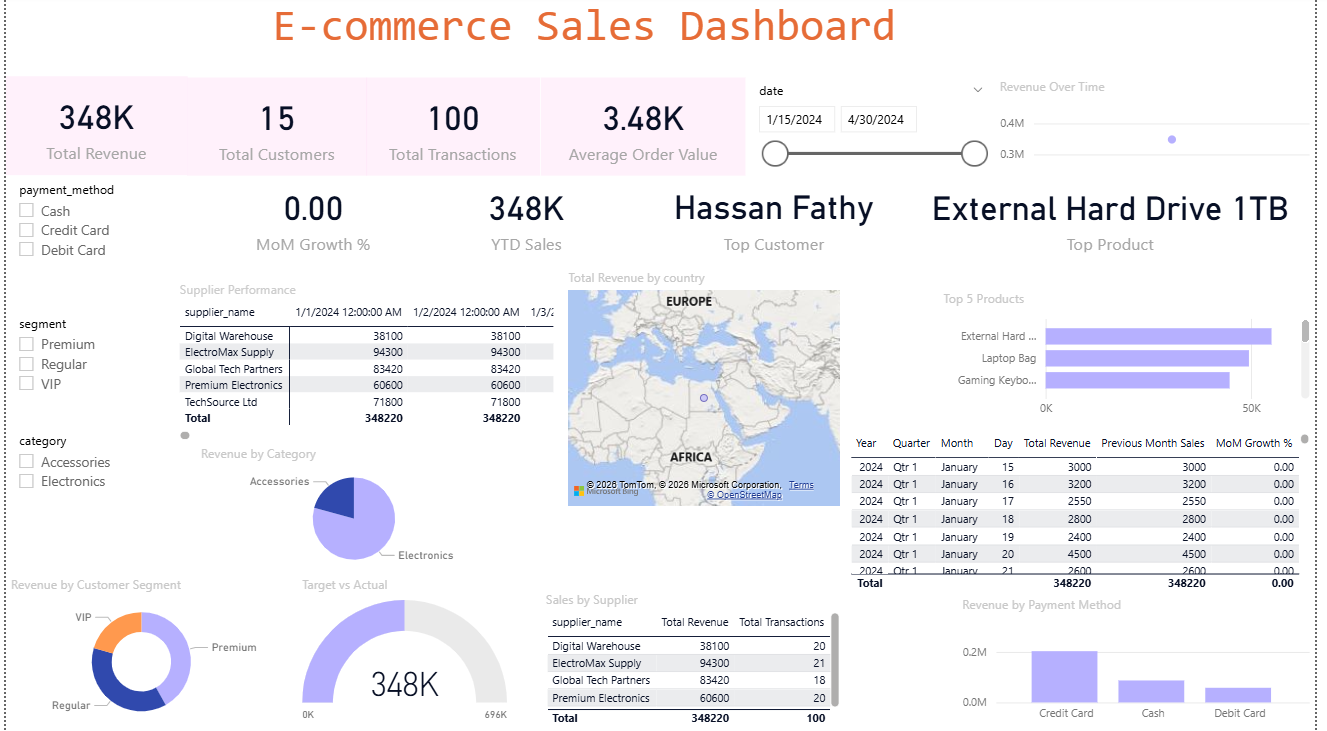

The dashboard page shown, as its layout file describes it:
{"tool":"powerbi","page":{"name":"Page 1","canvas":[1280,720],"ordinal":0},"visuals":[{"type":"card","fields":{"Values":["Sales.Total Revenue"]},"box":[0,79.5,177.3,96.6],"z":0},{"type":"card","fields":{"Values":["Sales.Total Transactions"]},"box":[352.7,81,170.2,96.1],"z":1000},{"type":"card","fields":{"Values":["Sales.Total Customers"]},"box":[177,81,175.6,96.1],"z":2000},{"type":"card","fields":{"Values":["Sales.Average Order Value"]},"box":[522.8,81,200.3,96.1],"z":3000},{"type":"slicer","fields":{"Values":["Sales.date"]},"box":[723.9,80.7,244.6,96.6],"z":4000},{"type":"slicer","fields":{"Values":["Sales.payment_method"]},"box":[0,177,193.5,131.7],"z":5000},{"type":"slicer","fields":{"Values":["Customers.segment"]},"box":[0,308.2,161.4,116.2],"z":6000},{"type":"slicer","fields":{"Values":["Products.category"]},"box":[0,422.6,193.5,101.5],"z":7000},{"type":"textbox","box":[255.6,0,640.8,67.3],"z":8000},{"type":"card","fields":{"Values":["Customers.MoM Growth %"]},"box":[193.2,177.3,215.2,79.5],"z":9000},{"type":"card","fields":{"Values":["Customers.YTD Sales"]},"box":[408.4,177.3,201.8,79.5],"z":10000},{"type":"card","fields":{"Values":["Customers.Top Customer"]},"box":[622.4,176.1,258,80.7],"z":11000},{"type":"card","fields":{"Values":["Customers.Top Product"]},"box":[880.4,177.3,399.9,79.5],"z":12000},{"type":"tableEx","fields":{"Values":["Sales.date.Variation.Date Hierarchy.Year","Sales.date.Variation.Date Hierarchy.Quarter","Sales.date.Variation.Date Hierarchy.Month","Sales.date.Variation.Date Hierarchy.Day","Sales.Total Revenue","Customers.Previous Month Sales","Customers.MoM Growth %"]},"box":[880,555,400,165],"z":13000},{"type":"pieChart","title":" Revenue by Category","fields":{"Category":["Products.category"],"Y":["Sales.Total Revenue"]},"box":[185.9,440.2,309.4,128.4],"z":14000},{"type":"lineChart","title":"Revenue Over Time","fields":{"Category":["Sales.date.Variation.Date Hierarchy.Year","Sales.date.Variation.Date Hierarchy.Quarter","Sales.date.Variation.Date Hierarchy.Month","Sales.date.Variation.Date Hierarchy.Day"],"Y":["Sales.Total Revenue"]},"box":[967.3,80.7,313,96.6],"z":15000},{"type":"clusteredBarChart","title":"Top 5 Products ","fields":{"Category":["Products.product_name"],"Y":["Sales.Total Revenue"]},"box":[896.2,288.8,383.8,185],"z":16000},{"type":"clusteredColumnChart","title":"Revenue by Payment Method","fields":{"Category":["Sales.payment_method"],"Y":["Sales.Total Revenue"]},"box":[523.8,440,350,131.2],"z":17000},{"type":"donutChart","title":" Revenue by Customer Segment","fields":{"Category":["Customers.segment"],"Y":["Sales.Total Revenue"]},"box":[0,568.6,265.4,151.6],"z":18000},{"type":"gauge","title":"Target vs Actual","fields":{"Y":["Sales.Total Revenue"]},"box":[284.9,568.6,210.3,151.6],"z":19000},{"type":"tableEx","title":"Sales by Supplier","fields":{"Values":["Suppliers.supplier_name","Sales.Total Revenue","Sales.Total Transactions"]},"box":[523.4,583.3,297.1,137],"z":20000},{"type":"pivotTable","title":"Supplier Performance","fields":{"Rows":["Suppliers.supplier_name"],"Columns":["DateTable.Date"],"Values":["Sales.Total Revenue"]},"box":[166,268,375,160],"z":21000},{"type":"map","fields":{"Category":["Customers.city"],"Size":["Sales.Total Revenue"]},"box":[576.2,281.2,297.5,156.2],"z":22000}]}

Visuals, with their boxes in screenshot pixels (x1, y1, x2, y2), scaled from the page's 1280x720 canvas onto the 1327x731 screenshot:
card - Sales.Total Revenue: {"x1": 0, "y1": 81, "x2": 184, "y2": 179}
card - Sales.Total Transactions: {"x1": 366, "y1": 82, "x2": 542, "y2": 180}
card - Sales.Total Customers: {"x1": 183, "y1": 82, "x2": 366, "y2": 180}
card - Sales.Average Order Value: {"x1": 542, "y1": 82, "x2": 750, "y2": 180}
slicer - Sales.date: {"x1": 750, "y1": 82, "x2": 1004, "y2": 180}
slicer - Sales.payment_method: {"x1": 0, "y1": 180, "x2": 201, "y2": 313}
slicer - Customers.segment: {"x1": 0, "y1": 313, "x2": 167, "y2": 431}
slicer - Products.category: {"x1": 0, "y1": 429, "x2": 201, "y2": 532}
textbox: {"x1": 265, "y1": 0, "x2": 929, "y2": 68}
card - Customers.MoM Growth %: {"x1": 200, "y1": 180, "x2": 423, "y2": 261}
card - Customers.YTD Sales: {"x1": 423, "y1": 180, "x2": 633, "y2": 261}
card - Customers.Top Customer: {"x1": 645, "y1": 179, "x2": 913, "y2": 261}
card - Customers.Top Product: {"x1": 913, "y1": 180, "x2": 1326, "y2": 261}
tableEx - Sales.date.Variation.Date Hierarchy.Year x Sales.date.Variation.Date Hierarchy.Quarter: {"x1": 912, "y1": 563, "x2": 1326, "y2": 730}
" Revenue by Category" pieChart: {"x1": 193, "y1": 447, "x2": 513, "y2": 577}
"Revenue Over Time" lineChart: {"x1": 1003, "y1": 82, "x2": 1326, "y2": 180}
"Top 5 Products " clusteredBarChart: {"x1": 929, "y1": 293, "x2": 1326, "y2": 481}
"Revenue by Payment Method" clusteredColumnChart: {"x1": 543, "y1": 447, "x2": 906, "y2": 580}
" Revenue by Customer Segment" donutChart: {"x1": 0, "y1": 577, "x2": 275, "y2": 730}
"Target vs Actual" gauge: {"x1": 295, "y1": 577, "x2": 513, "y2": 730}
"Sales by Supplier" tableEx: {"x1": 543, "y1": 592, "x2": 851, "y2": 730}
"Supplier Performance" pivotTable: {"x1": 172, "y1": 272, "x2": 561, "y2": 435}
map - Customers.city x Sales.Total Revenue: {"x1": 597, "y1": 285, "x2": 906, "y2": 444}
